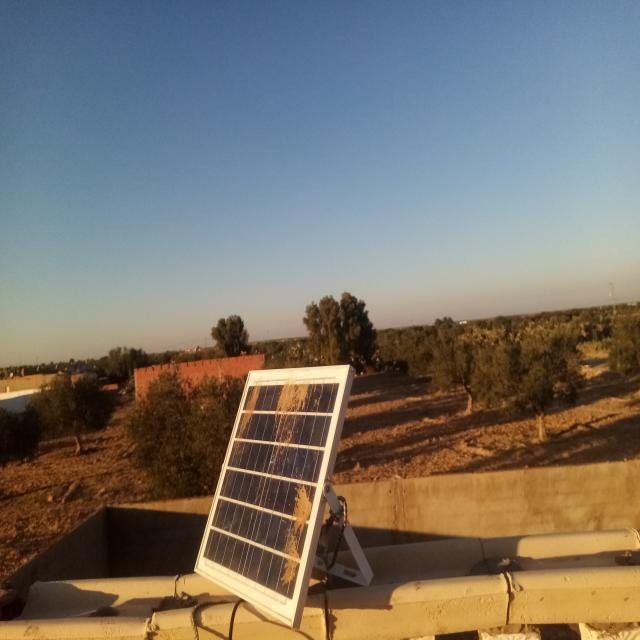faulty: (195, 366, 350, 624)
